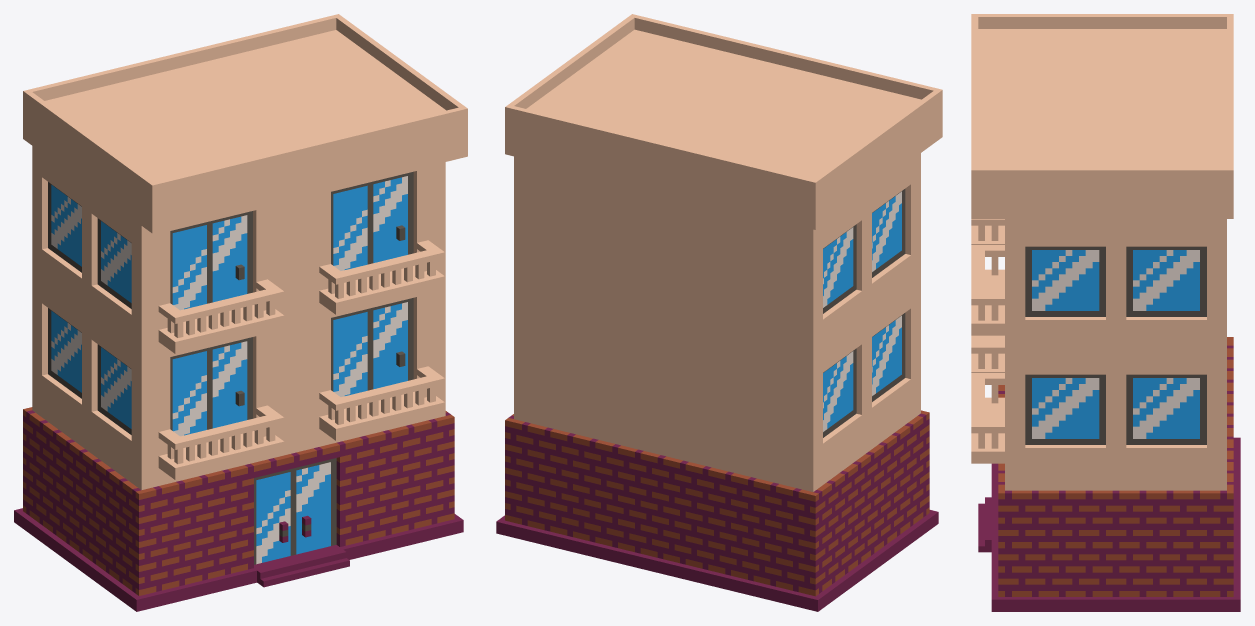
Rendered from apartment_b.obj.
3 renders of one model, left to right at view 1: azimuth 30°, elevation 25°; view 2: azimuth 150°, elevation 25°; view 3: azimuth 270°, elevation 25°, orthographic. The views are drawn at different scales.
Size of the model in its own units: 5.7 by 7.2 by 4.
1 material, 1 textured.
